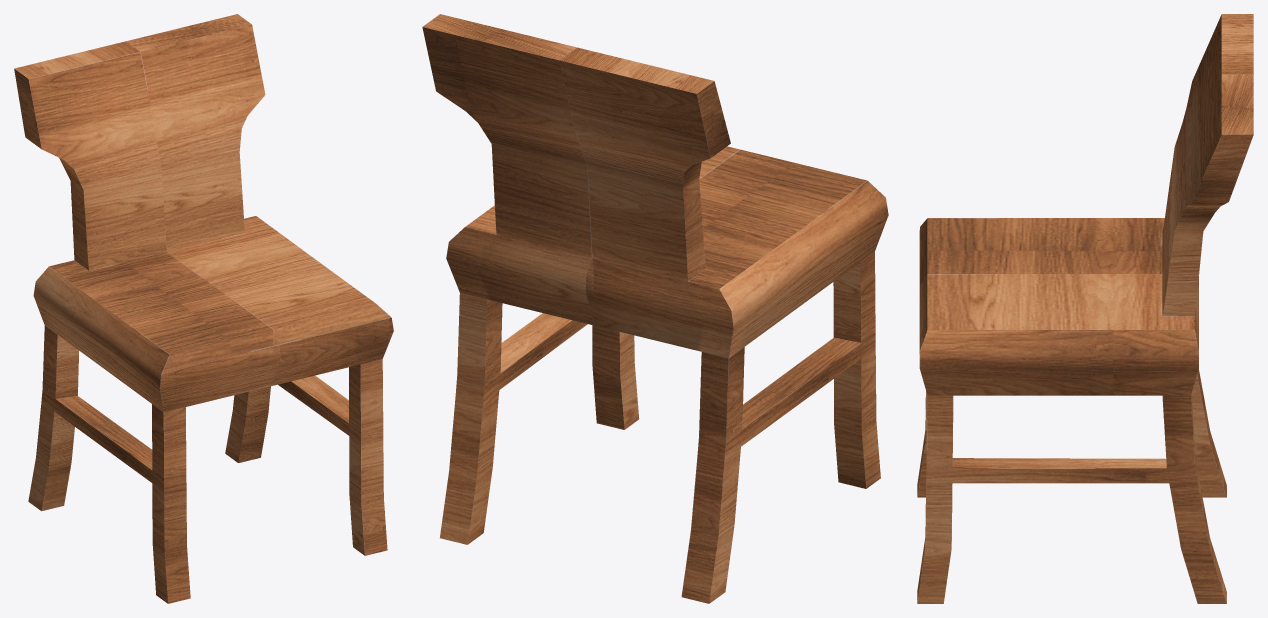
Rendered from SM_Chair.fbx.
The picture shows the model from 3 angles, left to right: view 1: azimuth 30°, elevation 25°; view 2: azimuth 150°, elevation 25°; view 3: azimuth 270°, elevation 25°; orthographic projection. The views are drawn at different scales.
Parts seen in each view (by area): view 1: pCube3; view 2: pCube3; view 3: pCube3.
Boxes of the visible parts, x1,y1,x2,y2 form: pCube3: (14,14,393,603); pCube3: (422,14,888,603); pCube3: (917,14,1253,603).
Bounding box in the file's own units: 0.9558 × 1.66 × 1.07.
